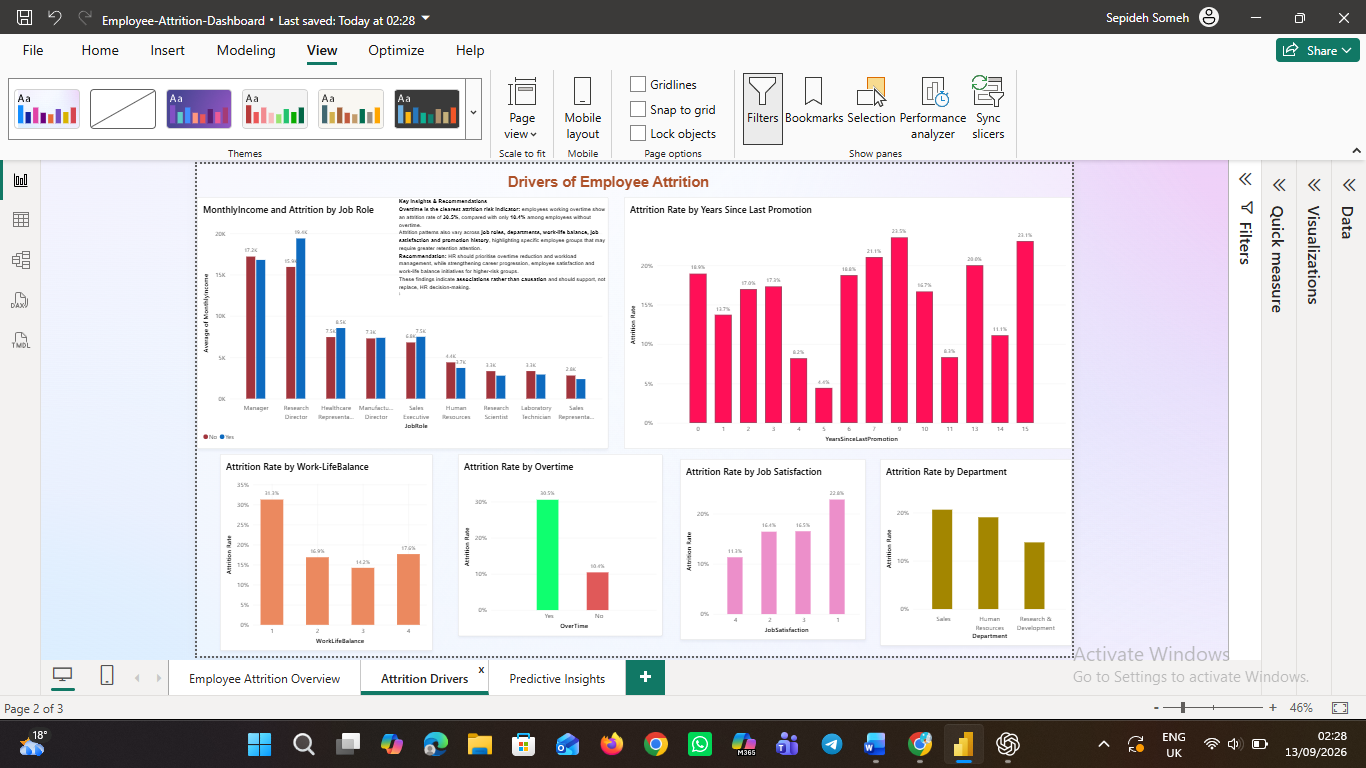

The page's visual inventory and layout, read from the dashboard file:
{"tool":"powerbi","page":{"name":"Attrition Drivers","canvas":[1920,1080],"ordinal":1},"visuals":[{"type":"textbox","box":[652.3,21.6,502.5,100.9],"z":0},{"type":"clusteredColumnChart","title":"MonthlyIncome and Attrition by Job Role","fields":{"Category":["hr_attrition_clean.JobRole"],"Series":["hr_attrition_clean.Attrition"],"Y":["Avg(hr_attrition_clean.MonthlyIncome)"]},"box":[0,73.4,902.9,553],"z":1},{"type":"clusteredColumnChart","title":"Attrition Rate by Work-LifeBalance","fields":{"Category":["hr_attrition_clean.WorkLifeBalance"],"Y":["hr_attrition_clean.Attrition Rate"]},"box":[49.7,637.2,466.6,432],"z":2},{"type":"clusteredColumnChart","title":"Attrition Rate by Years Since Last Promotion","fields":{"Category":["hr_attrition_clean.YearsSinceLastPromotion"],"Y":["hr_attrition_clean.Attrition Rate"]},"box":[937.4,73.4,982.8,553],"z":3},{"type":"clusteredColumnChart","title":"Attrition Rate by Overtime","fields":{"Category":["hr_attrition_clean.OverTime"],"Y":["hr_attrition_clean.Attrition Rate"]},"box":[572.4,637.2,449.3,399.6],"z":4},{"type":"clusteredColumnChart","title":"Attrition Rate by Job Satisfaction","fields":{"Category":["hr_attrition_clean.JobSatisfaction"],"Y":["hr_attrition_clean.Attrition Rate"]},"box":[1060.6,648,408.2,397.4],"z":5},{"type":"clusteredColumnChart","fields":{"Category":["hr_attrition_clean.Department"],"Y":["hr_attrition_clean.Attrition Rate"]},"box":[1499,648,421.2,410.4],"z":6},{"type":"textbox","box":[442.8,73.4,460.1,231.1],"z":7}]}

Visuals, with their boxes on the page's 1920x1080 design canvas (x1, y1, x2, y2). These are canvas units, not pixel positions in the 1366x768 screenshot, which may show the page scaled, cropped or inside an application window:
textbox: <bbox>652, 22, 1155, 122</bbox>
"MonthlyIncome and Attrition by Job Role" clusteredColumnChart: <bbox>0, 73, 903, 626</bbox>
"Attrition Rate by Work-LifeBalance" clusteredColumnChart: <bbox>50, 637, 516, 1069</bbox>
"Attrition Rate by Years Since Last Promotion" clusteredColumnChart: <bbox>937, 73, 1920, 626</bbox>
"Attrition Rate by Overtime" clusteredColumnChart: <bbox>572, 637, 1022, 1037</bbox>
"Attrition Rate by Job Satisfaction" clusteredColumnChart: <bbox>1061, 648, 1469, 1045</bbox>
clusteredColumnChart - hr_attrition_clean.Department x hr_attrition_clean.Attrition Rate: <bbox>1499, 648, 1920, 1058</bbox>
textbox: <bbox>443, 73, 903, 304</bbox>
